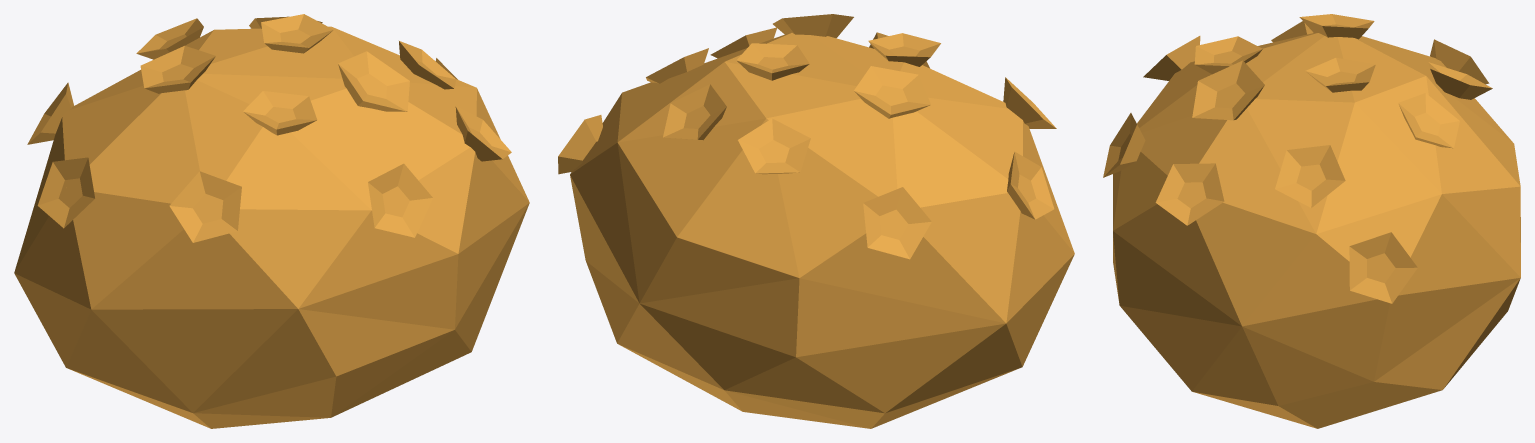
File: nature-shrub-flowers.glb
3 renders of one model, left to right at view 1: azimuth 30°, elevation 25°; view 2: azimuth 150°, elevation 25°; view 3: azimuth 270°, elevation 25°, orthographic. The views are drawn at different scales.
Parts seen in each view (by area): view 1: shrub-flowers; view 2: shrub-flowers; view 3: shrub-flowers.
Boxes of the visible parts, bbox=[...] form: shrub-flowers: bbox=[14, 14, 529, 428]; shrub-flowers: bbox=[558, 14, 1074, 428]; shrub-flowers: bbox=[1103, 14, 1520, 428].
Bounding box in the file's own units: 1.26 × 0.9312 × 1.05.
